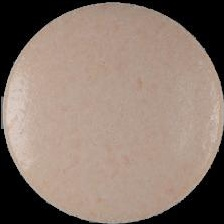0378-5124: (0, 0, 224, 224)
